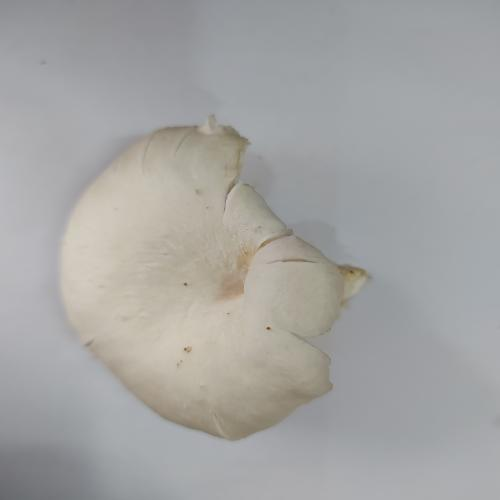Oyster Mushroom: (58, 114, 369, 441)
